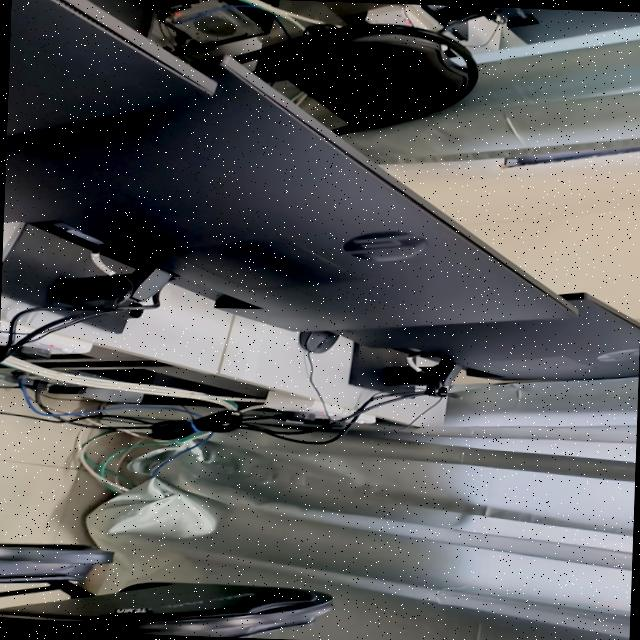Chair: (236, 22, 477, 133), (0, 581, 331, 637)
Monitor: (3, 59, 576, 333), (6, 0, 215, 134), (335, 291, 640, 380), (513, 7, 640, 42)
Mouse: (300, 330, 340, 352)
